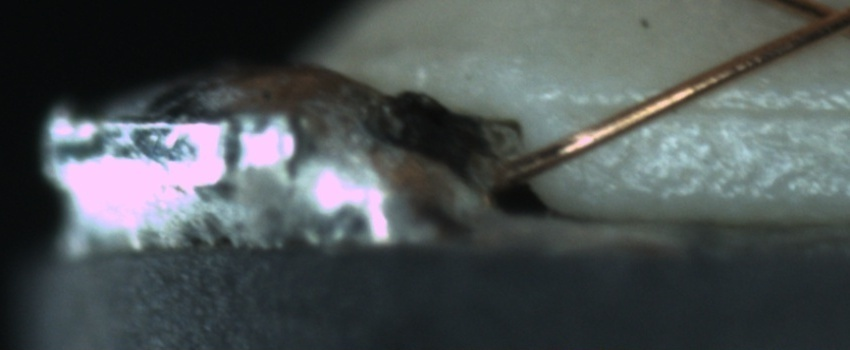CL: (779, 0, 850, 44)
DL: (564, 75, 848, 136)
